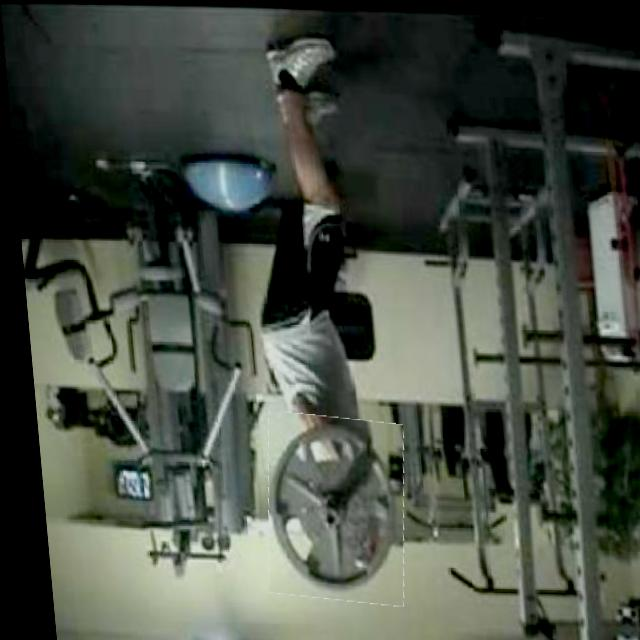barbell: (250, 413, 405, 604)
